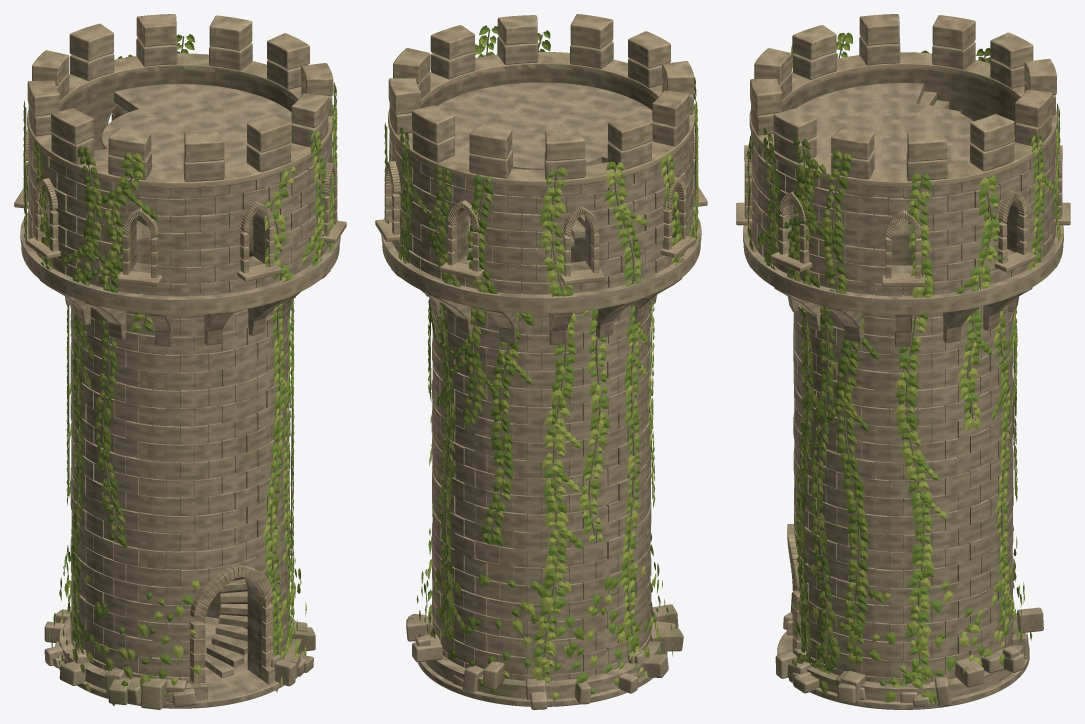
The model's file is Watchtower.glb.
3 renders of one model, left to right at view 1: azimuth 30°, elevation 25°; view 2: azimuth 150°, elevation 25°; view 3: azimuth 270°, elevation 25°, orthographic.
Parts seen in each view (by area): view 1: Masonry and crenellations, Frames, corbels and footing rubble, Climbing ivy, Hollow structural walls, Wall staircase and solid roof floor; view 2: Masonry and crenellations, Climbing ivy, Frames, corbels and footing rubble, Wall staircase and solid roof floor, Hollow structural walls; view 3: Masonry and crenellations, Climbing ivy, Frames, corbels and footing rubble, Hollow structural walls, Wall staircase and solid roof floor.
Part boxes in pixels (box(x1,y1,x2,y2)): Masonry and crenellations: box(27, 14, 333, 682); Frames, corbels and footing rubble: box(14, 53, 346, 709); Climbing ivy: box(23, 34, 337, 705); Hollow structural walls: box(46, 65, 326, 708); Wall staircase and solid roof floor: box(93, 84, 292, 695); Masonry and crenellations: box(388, 14, 694, 680); Climbing ivy: box(384, 25, 698, 701); Frames, corbels and footing rubble: box(375, 52, 707, 709); Wall staircase and solid roof floor: box(437, 82, 653, 246); Hollow structural walls: box(396, 64, 675, 706); Masonry and crenellations: box(750, 14, 1056, 683); Climbing ivy: box(746, 32, 1060, 703); Frames, corbels and footing rubble: box(736, 52, 1070, 707); Hollow structural walls: box(777, 64, 1029, 709); Wall staircase and solid roof floor: box(789, 83, 1014, 651).
Bounding box in the file's own units: 7.02 × 13.57 × 7.02.
10 materials, 4 textured.
